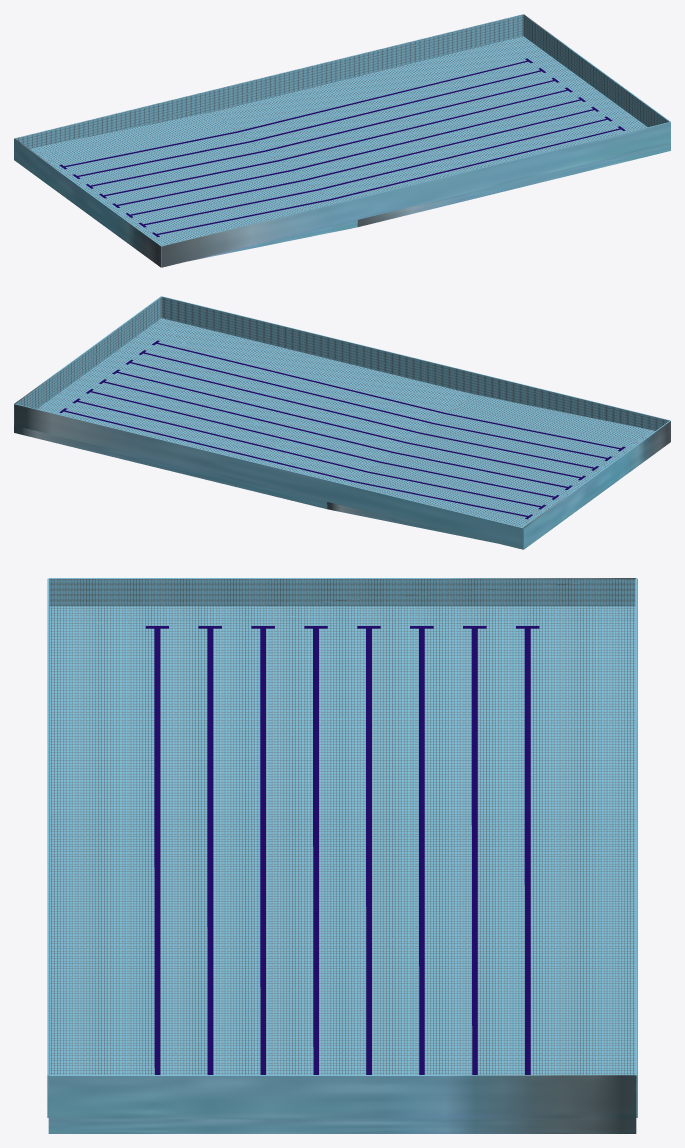
File: sppool.dae
3 renders of one model, top to bottom at view 1: azimuth 30°, elevation 25°; view 2: azimuth 150°, elevation 25°; view 3: azimuth 270°, elevation 25°, orthographic. The views are drawn at different scales.
Parts seen in each view (by area): view 1: west, lane.002, lane.005, lane.003, lane, lane.006, lane.001, lane.004, lane.007; view 2: west, lane.004, lane.001, lane.007, lane.006, lane.003, lane.005, lane.002, lane; view 3: west, lane.006, lane, lane.007, lane.001, lane.005, lane.004, lane.003, lane.002.
Boxes of the visible parts, x1=… form: west: x1=14, y1=14, x2=670, y2=267; lane.002: x1=125, y1=107, x2=598, y2=217; lane.005: x1=86, y1=78, x2=559, y2=188; lane.003: x1=112, y1=97, x2=585, y2=207; lane: x1=152, y1=126, x2=625, y2=237; lane.006: x1=139, y1=116, x2=612, y2=227; lane.001: x1=72, y1=68, x2=546, y2=178; lane.004: x1=99, y1=87, x2=572, y2=198; lane.007: x1=59, y1=58, x2=532, y2=169; west: x1=14, y1=296, x2=670, y2=549; lane.004: x1=99, y1=379, x2=572, y2=489; lane.001: x1=72, y1=398, x2=545, y2=509; lane.007: x1=59, y1=408, x2=532, y2=519; lane.006: x1=139, y1=350, x2=612, y2=460; lane.003: x1=112, y1=369, x2=585, y2=480; lane.005: x1=86, y1=389, x2=559, y2=499; lane.002: x1=126, y1=360, x2=598, y2=470; lane: x1=152, y1=340, x2=625, y2=451; west: x1=47, y1=578, x2=637, y2=1133; lane.006: x1=198, y1=626, x2=221, y2=1074; lane: x1=145, y1=626, x2=168, y2=1074; lane.007: x1=516, y1=626, x2=539, y2=1074; lane.001: x1=463, y1=626, x2=486, y2=1074; lane.005: x1=410, y1=626, x2=433, y2=1074; lane.004: x1=357, y1=626, x2=380, y2=1074; lane.003: x1=304, y1=626, x2=327, y2=1074; lane.002: x1=251, y1=626, x2=274, y2=1074.
Size of the model in its own units: 50.1 by 25.1 by 2.72.
Materials: 9 (1 with a texture image).
